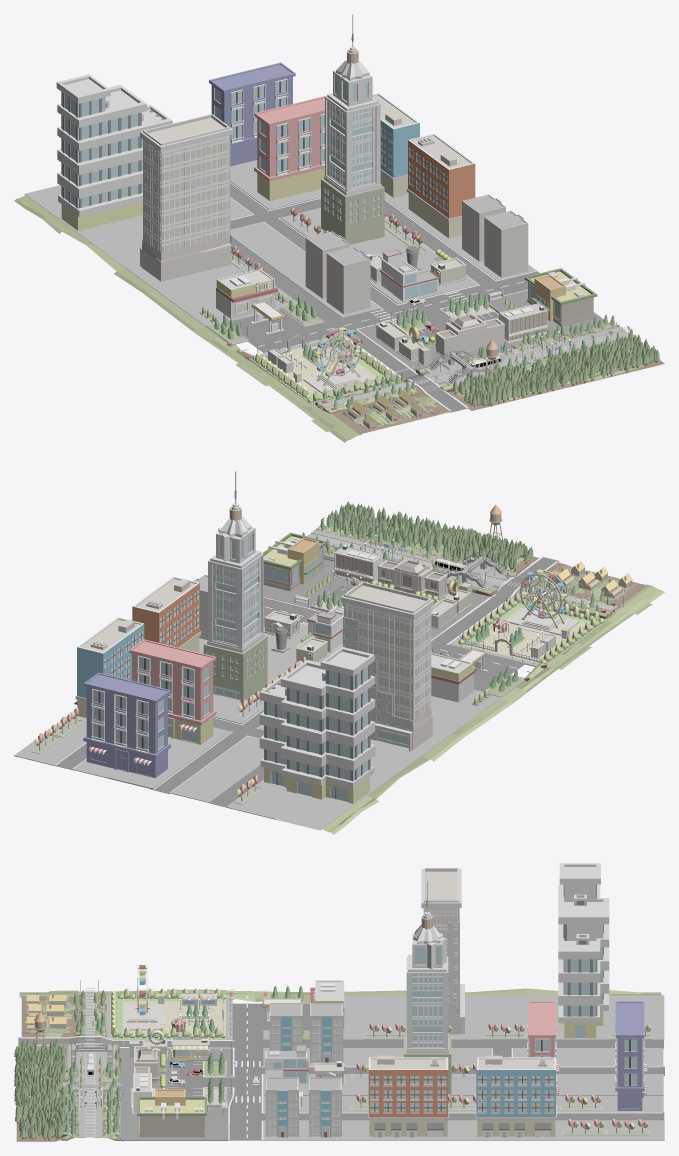
The model's file is low_poly_city_withoutbridge.glb.
The picture shows the model from 3 angles, top to bottom: view 1: azimuth 30°, elevation 25°; view 2: azimuth 150°, elevation 25°; view 3: azimuth 270°, elevation 25°; orthographic projection. The views are drawn at different scales.
Size of the model in its own units: 12458 by 8258 by 22395.
